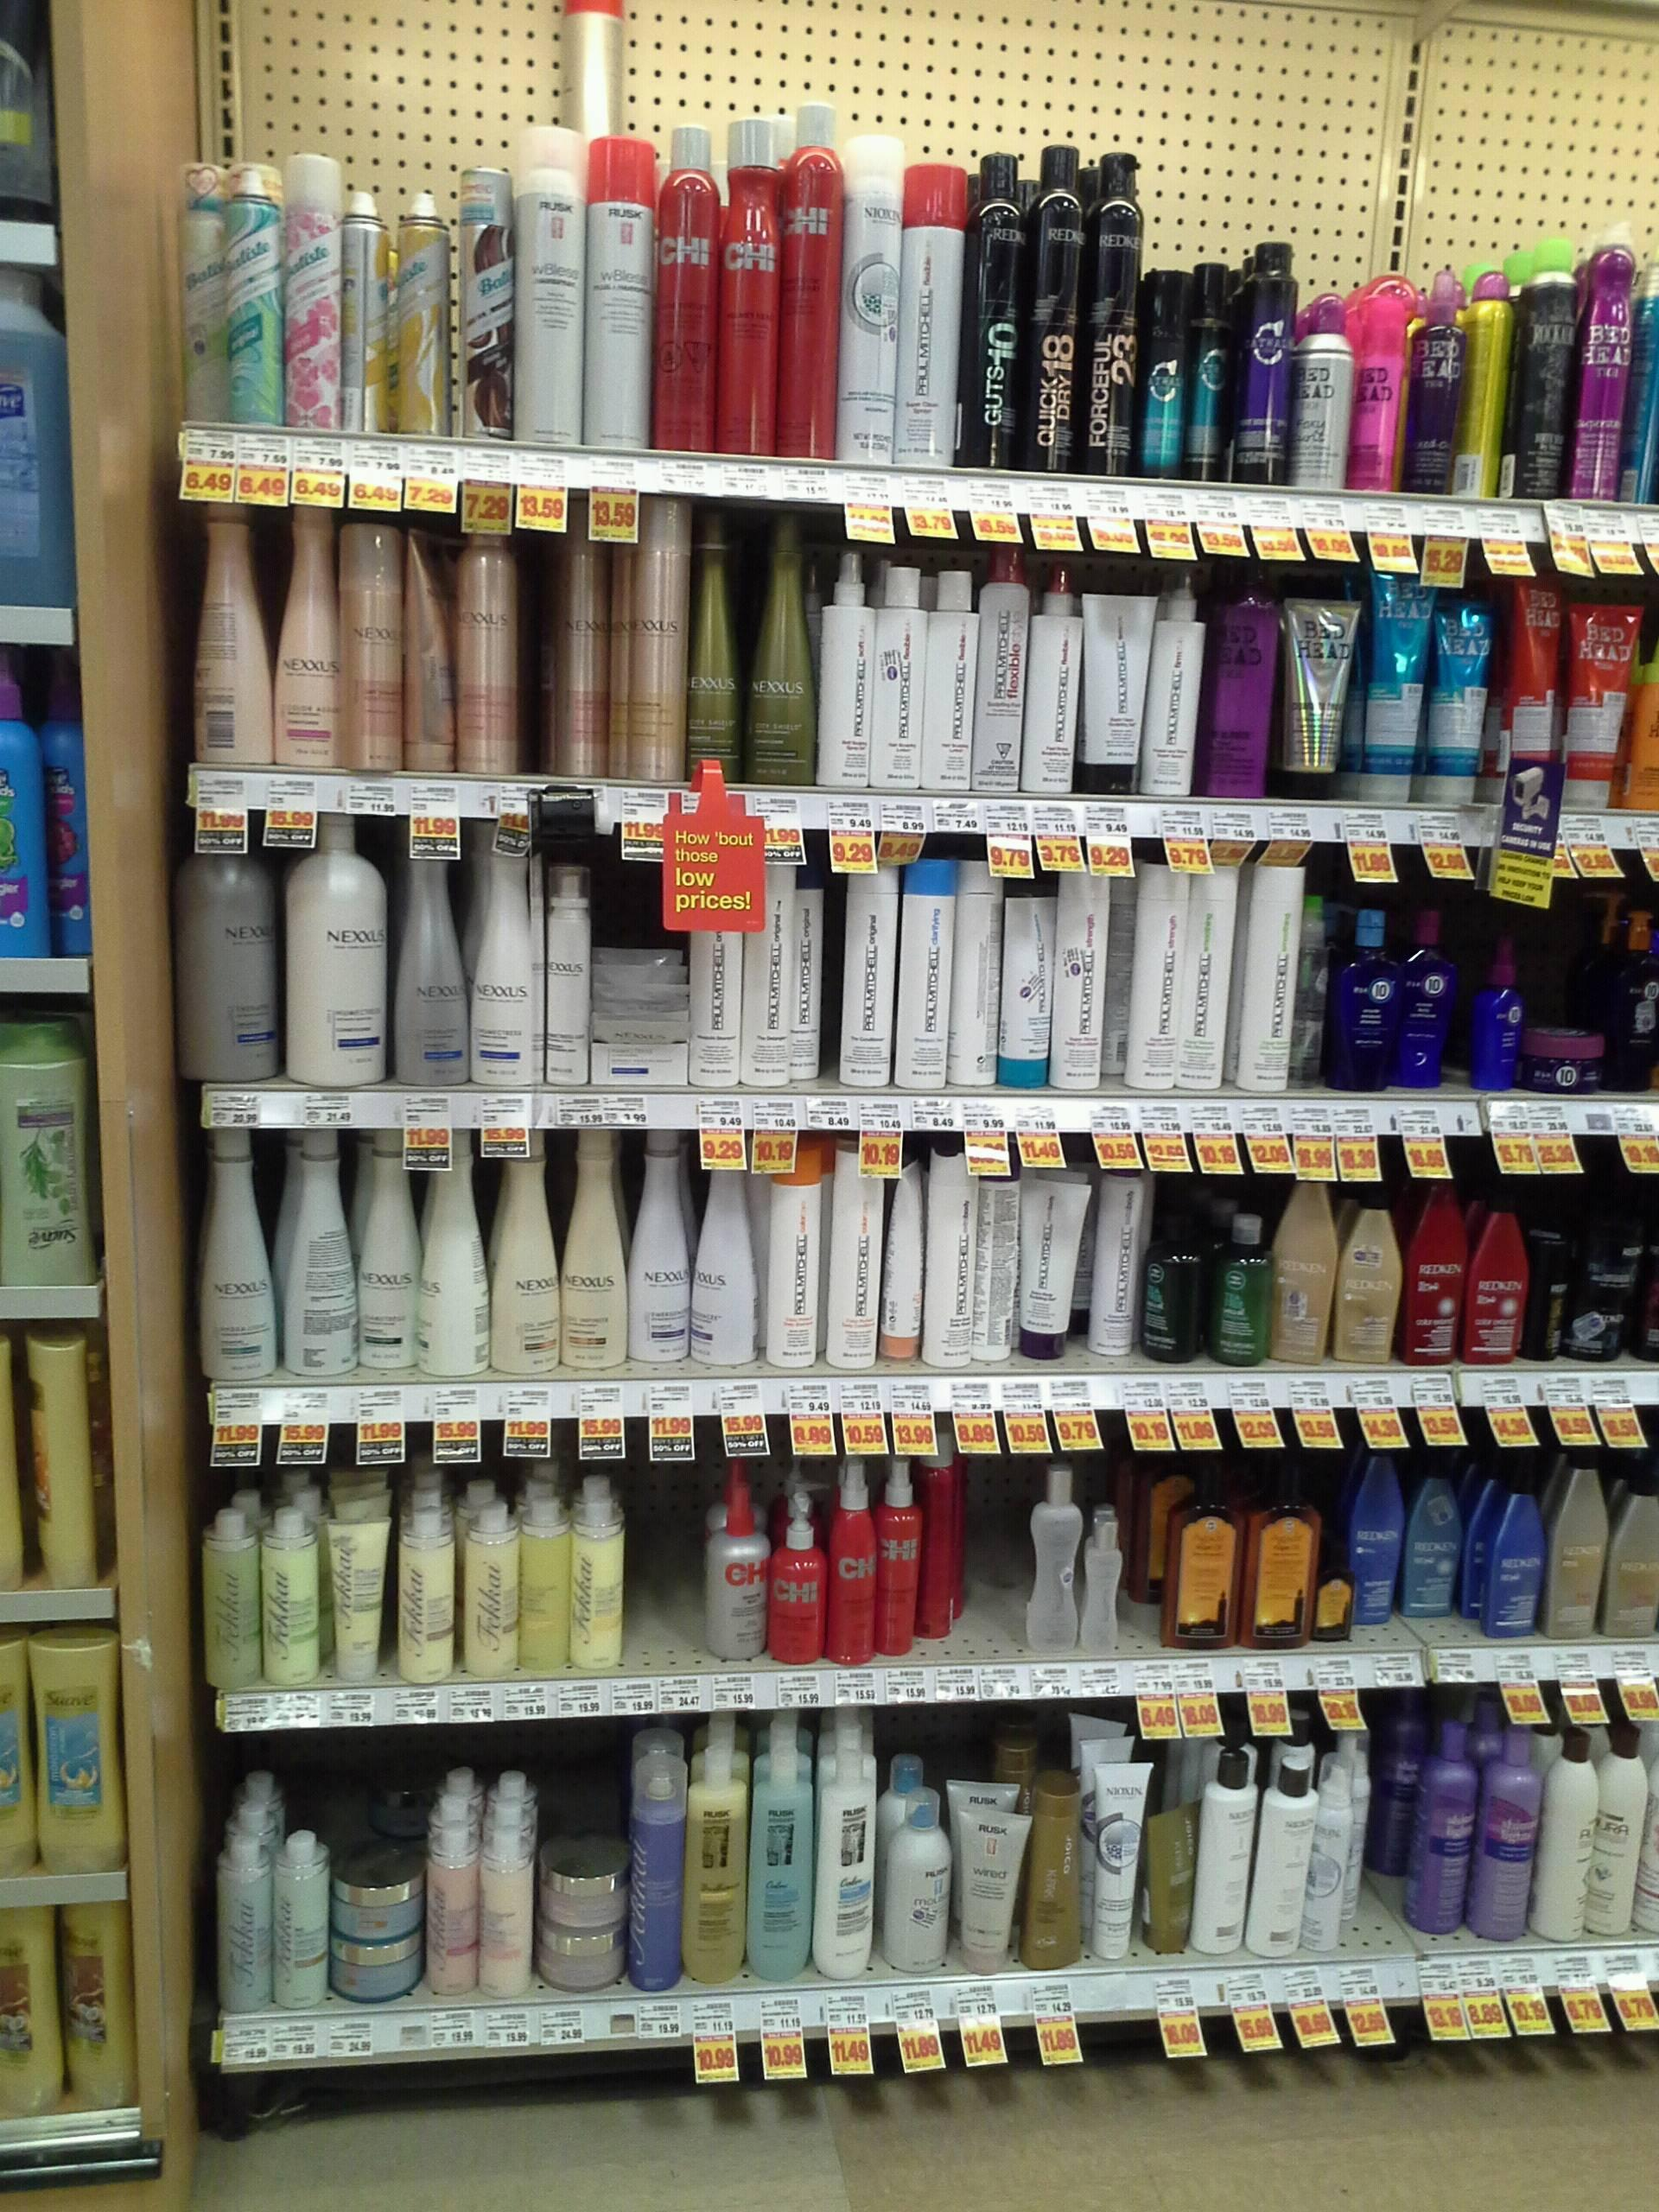empty: (1366, 1747, 1441, 1963), (953, 1460, 1028, 1676), (624, 1494, 699, 1672), (545, 1723, 626, 1865), (340, 1740, 420, 1883)
